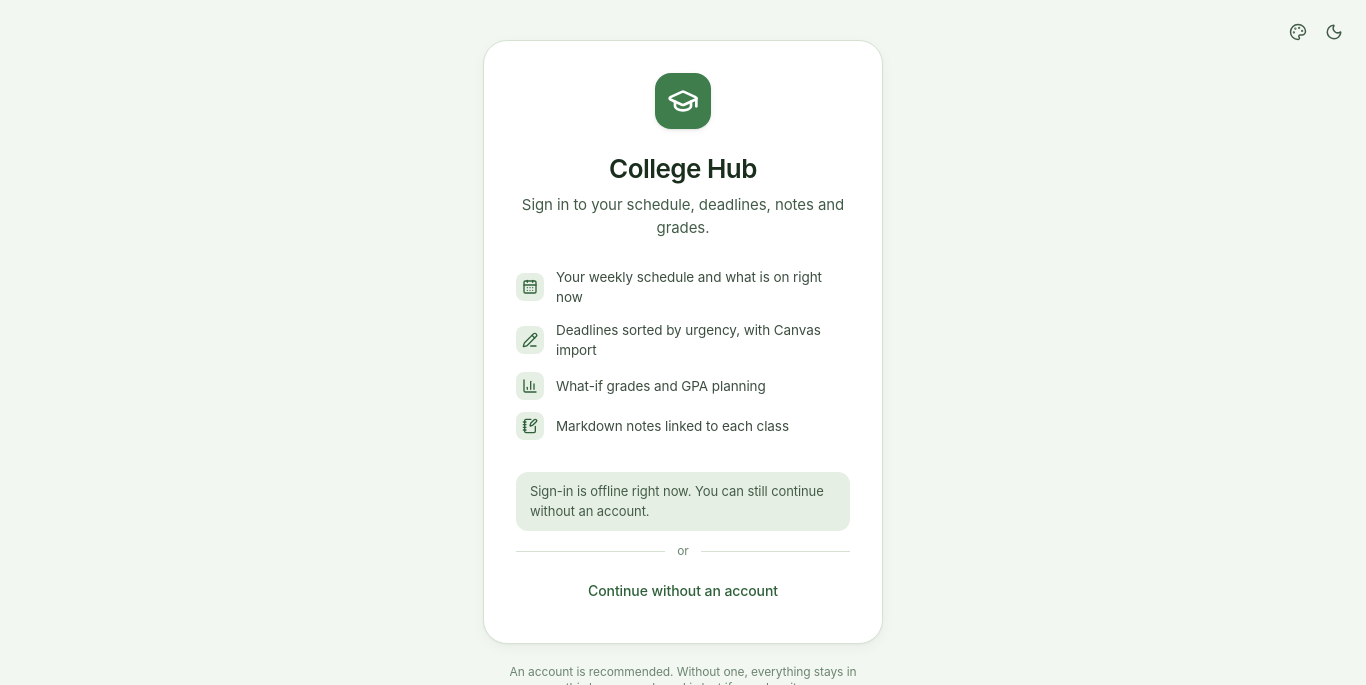
Test case: Sign in › shows the login page when signed out and lets a guest in
Expected: the heading "College Hub" is shown, [609, 149, 757, 188]
Click the button "Continue without an account" at (683, 591), box [516, 571, 850, 611]
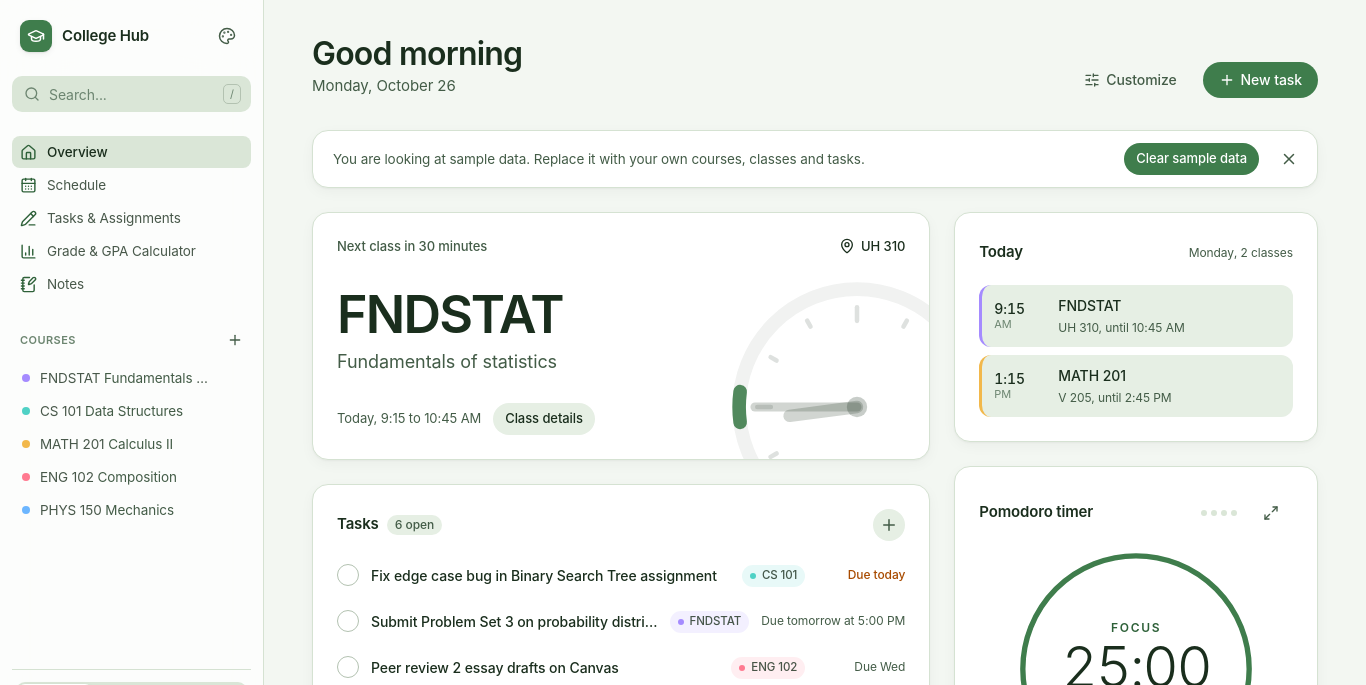
Result: the heading "Good morning" is shown at [312, 36, 522, 71]
